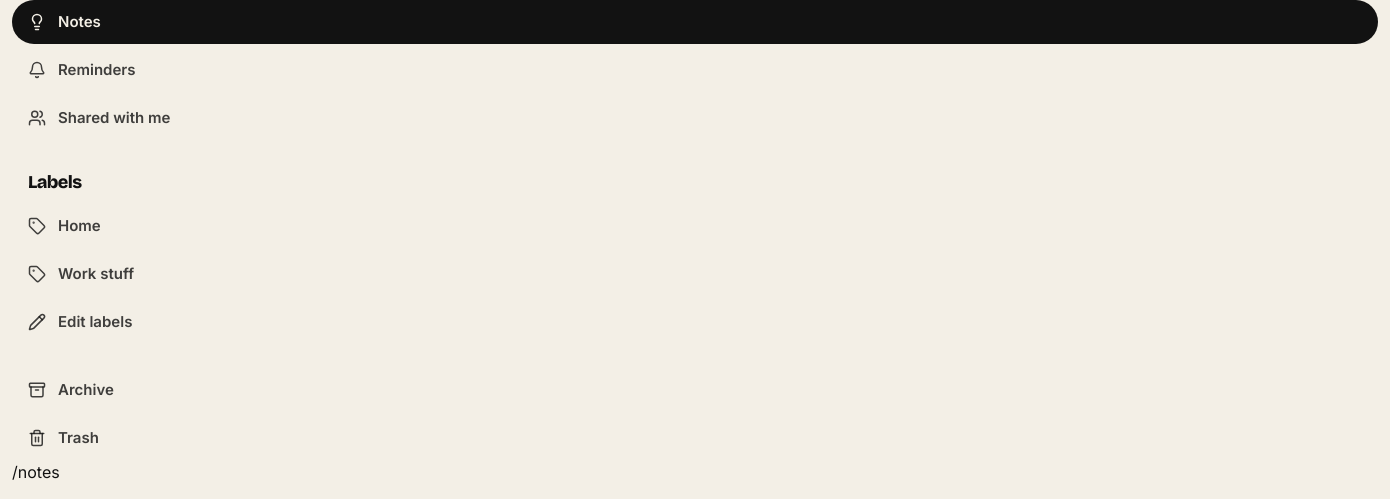
Sidebar › navigates when a section is clicked and reports it to close the mobile sheet
The image size is (1390, 499).
Click the link "Trash": (63, 437) [28, 428, 99, 447]
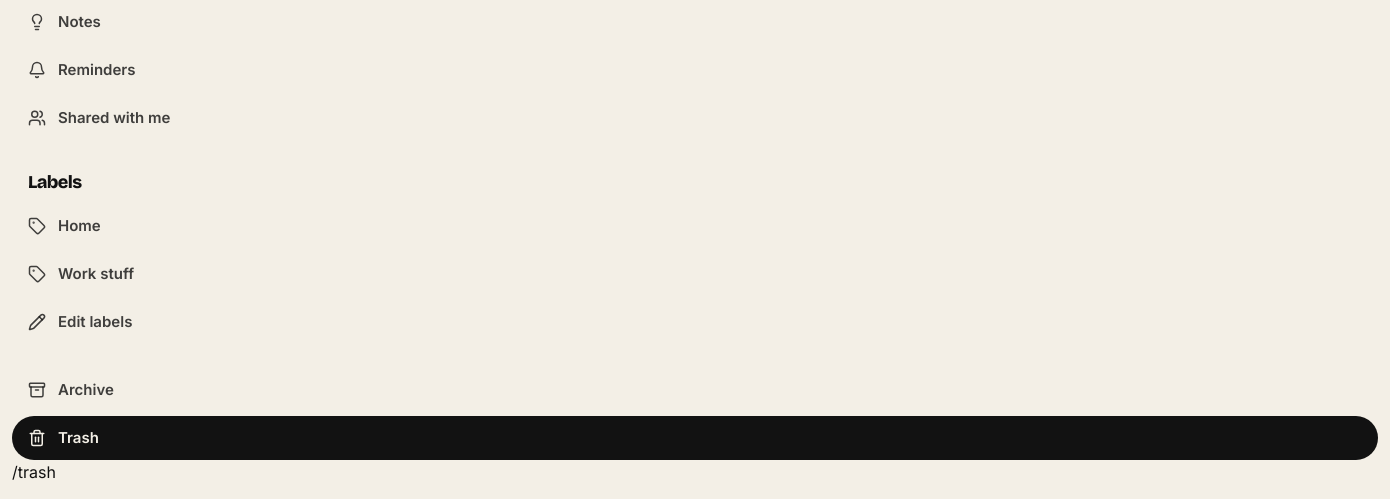
Now the text with test id "path" reads "/trash", box [12, 462, 56, 482]
